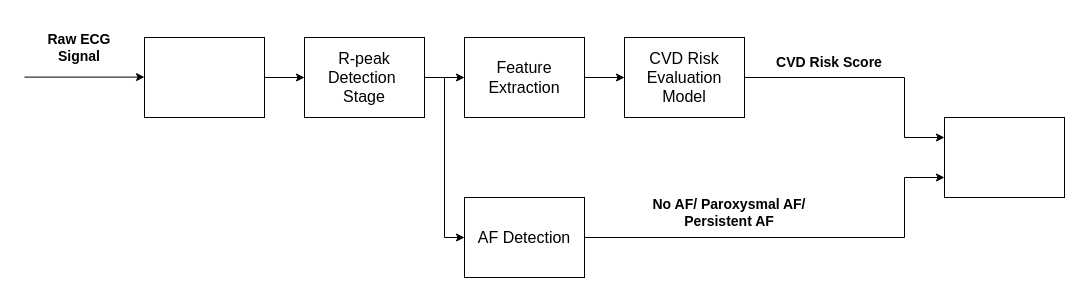
This 1082x295 diagram has some shape labels left out. The centre of each missing label's shape, as x and y in pixels:
"Preprocessing" goes at point 204,77.
"Web-Based User Interface" goes at point 1004,157.
